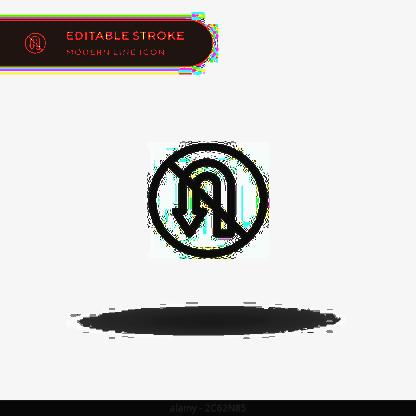No U-turn: (147, 132, 278, 266)
